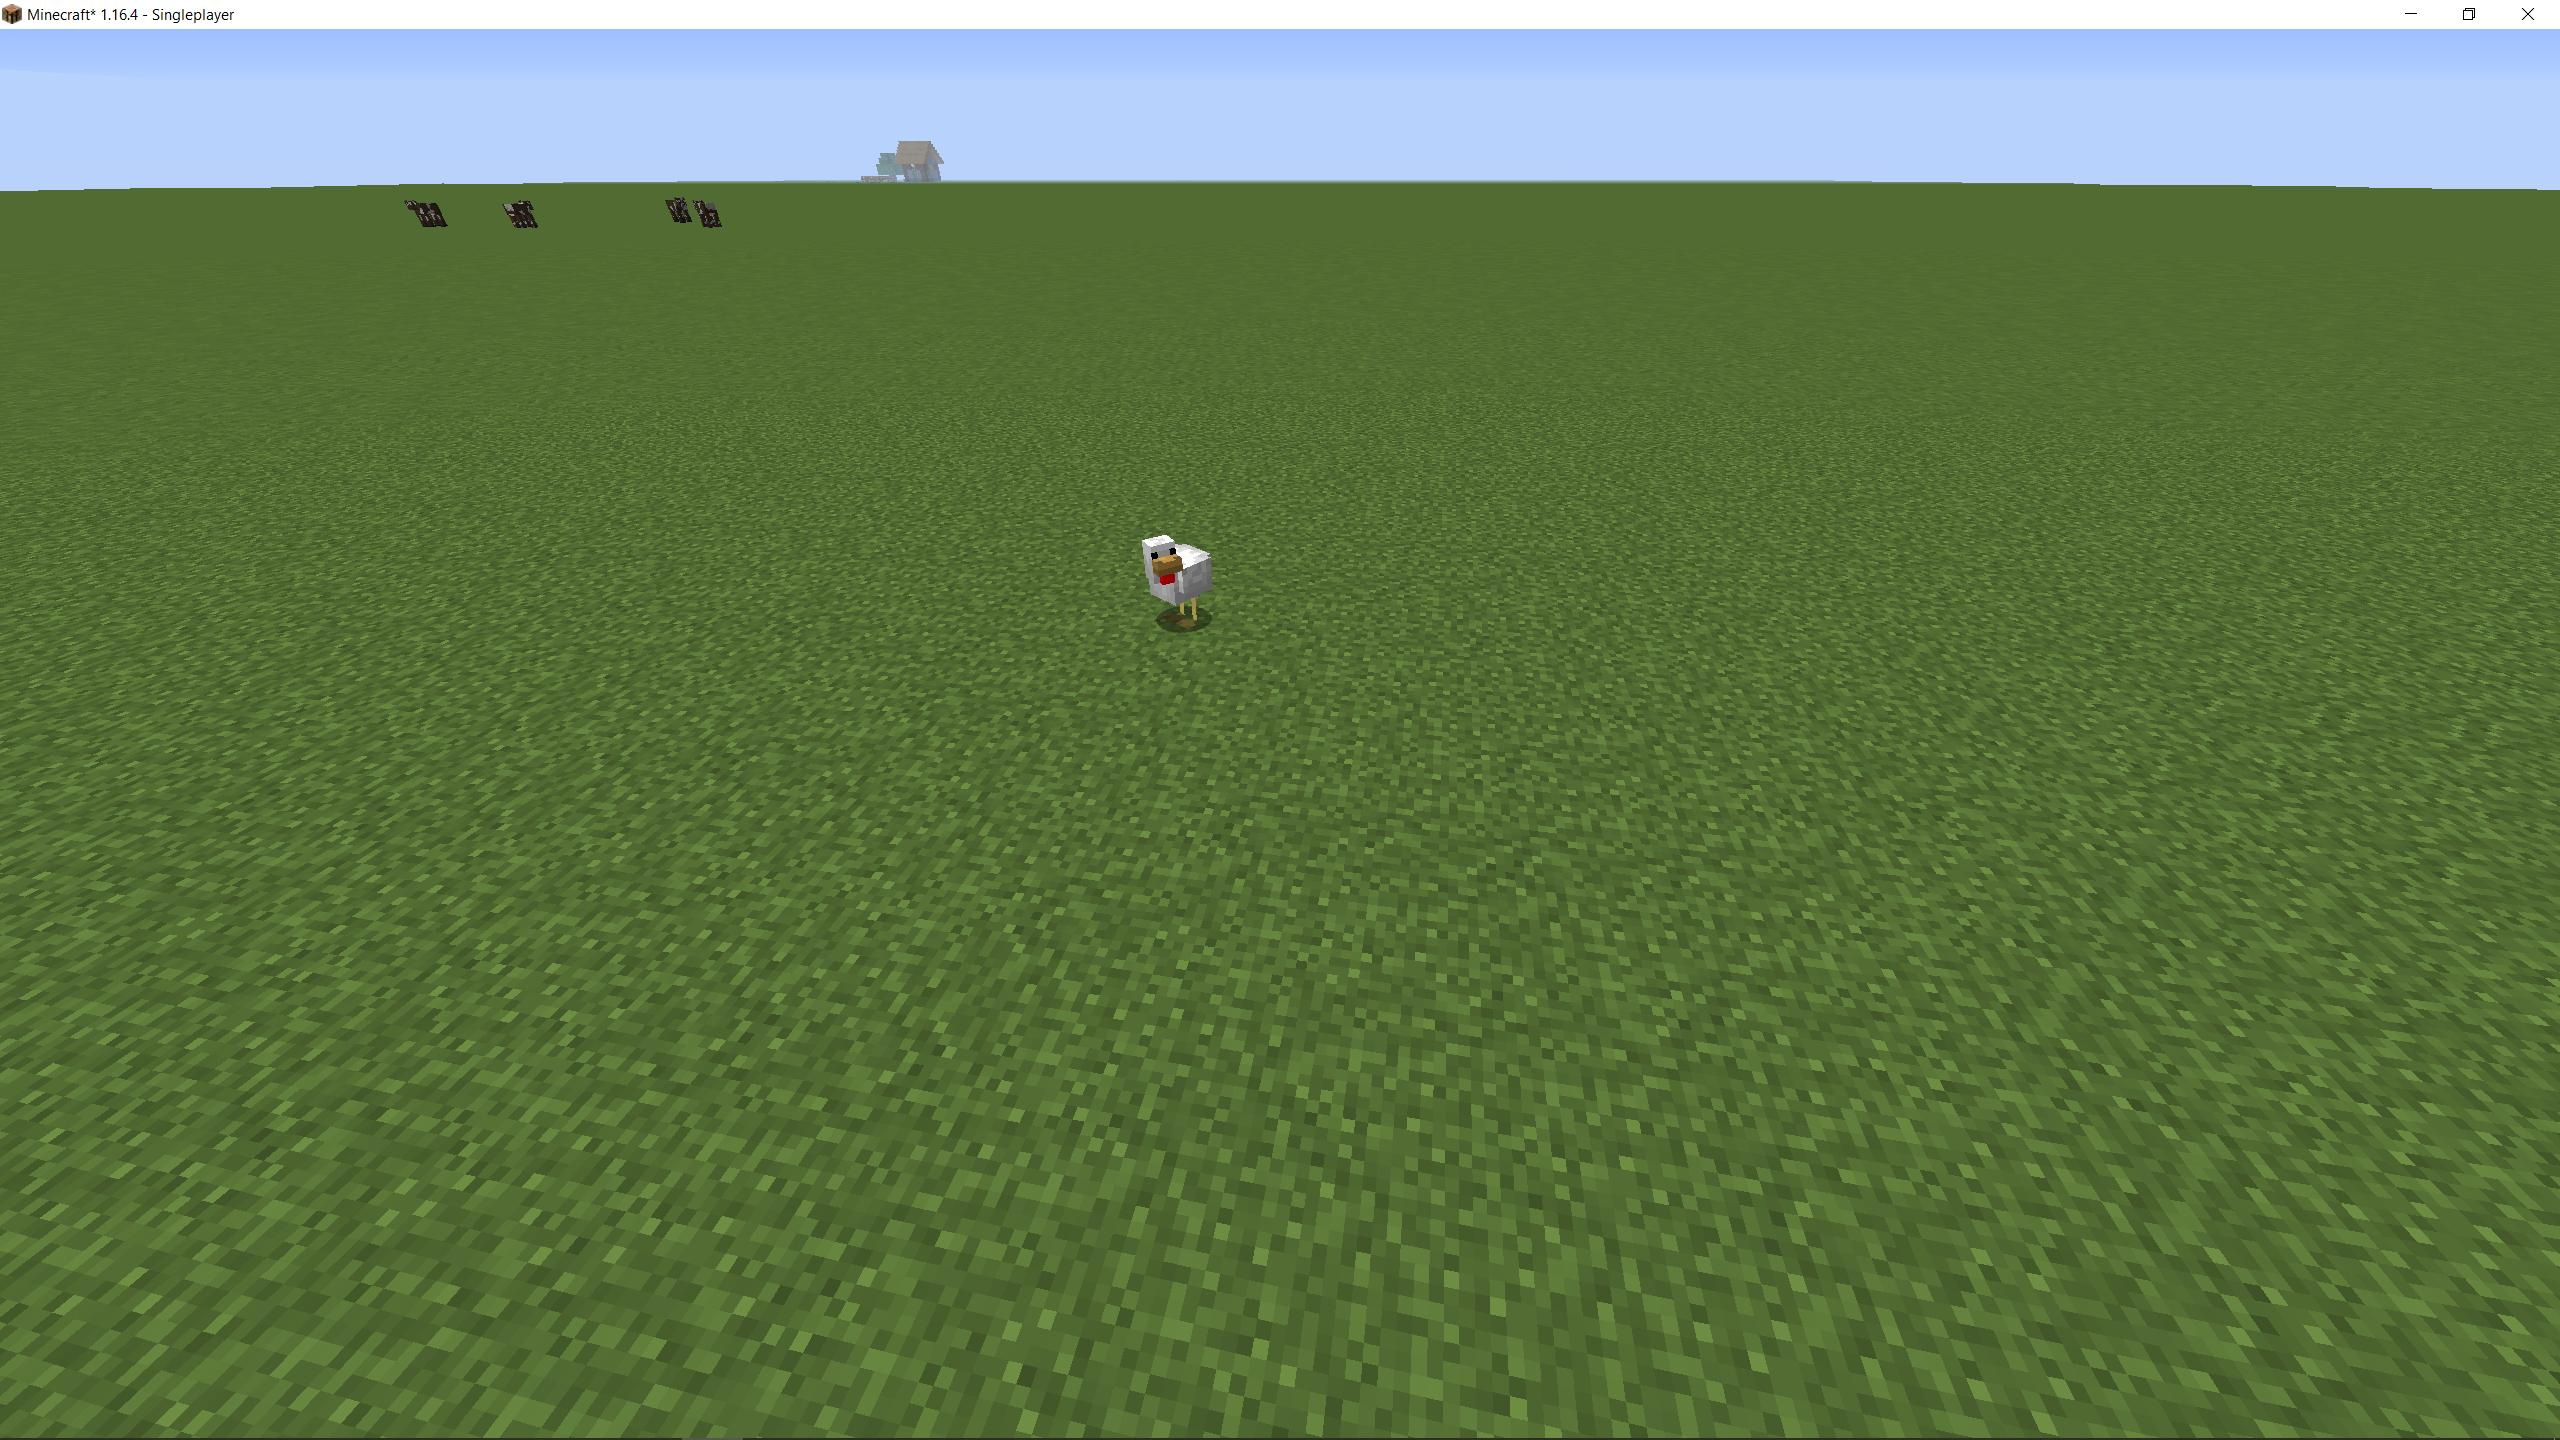chicken: (1131, 538, 1217, 628)
